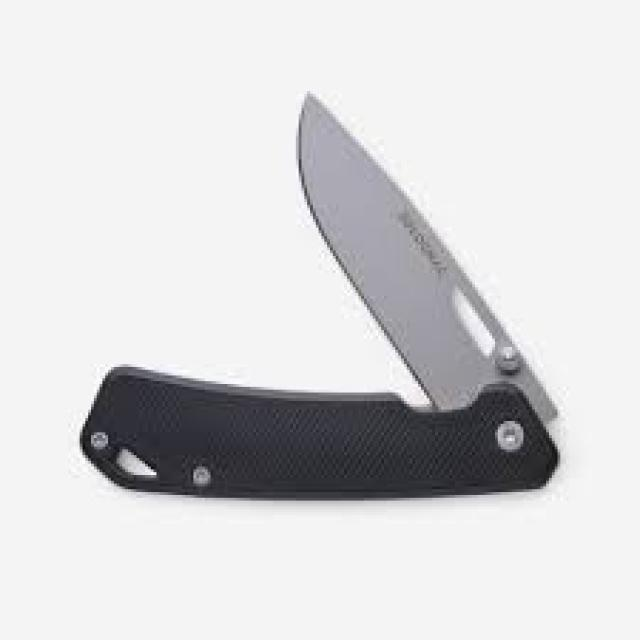Knife: (82, 94, 558, 495)
